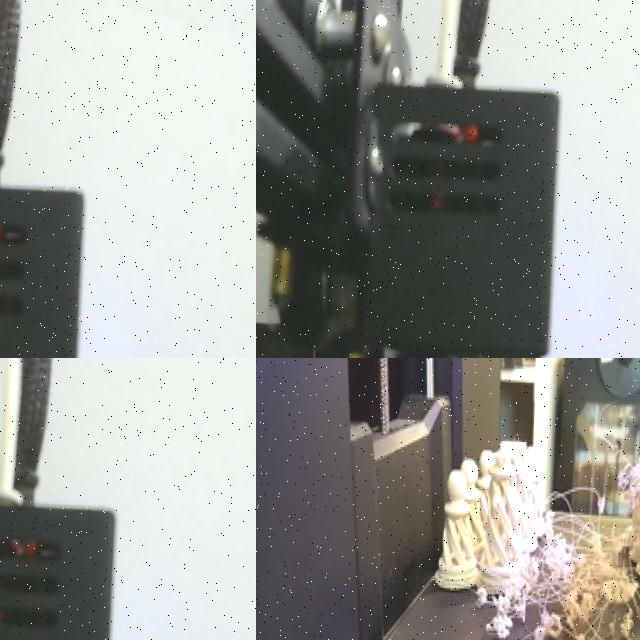spaghetti: (523, 509, 629, 640), (481, 617, 512, 640), (488, 584, 508, 612), (472, 584, 492, 608), (513, 596, 529, 625)
